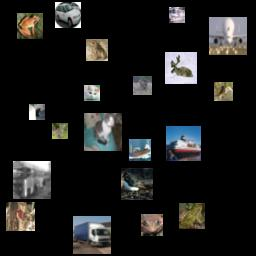airplane: (209, 17, 247, 55)
automobile: (55, 2, 81, 28)
bird: (121, 168, 153, 200), (6, 202, 35, 231), (214, 82, 233, 101)
cat: (84, 113, 122, 151), (84, 85, 100, 101), (29, 104, 45, 120)
deer: (165, 52, 197, 84), (133, 76, 152, 95), (52, 123, 68, 139)
frog: (179, 203, 205, 229), (17, 13, 43, 39), (141, 214, 163, 236), (86, 39, 108, 61)
ship: (166, 126, 201, 161), (129, 139, 151, 161), (169, 7, 185, 23)
truck: (73, 216, 111, 254), (13, 161, 51, 199)
